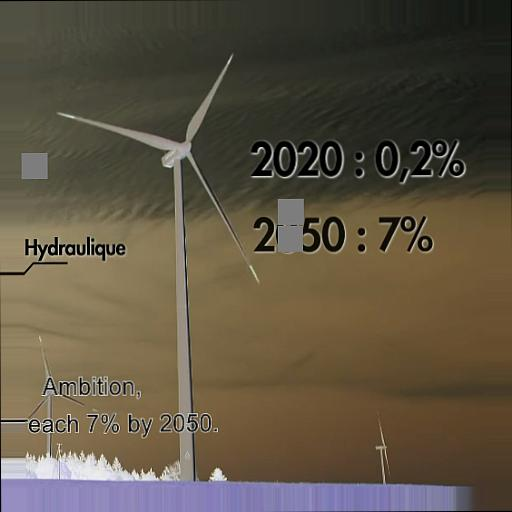wind turbine: (55, 52, 262, 479)
